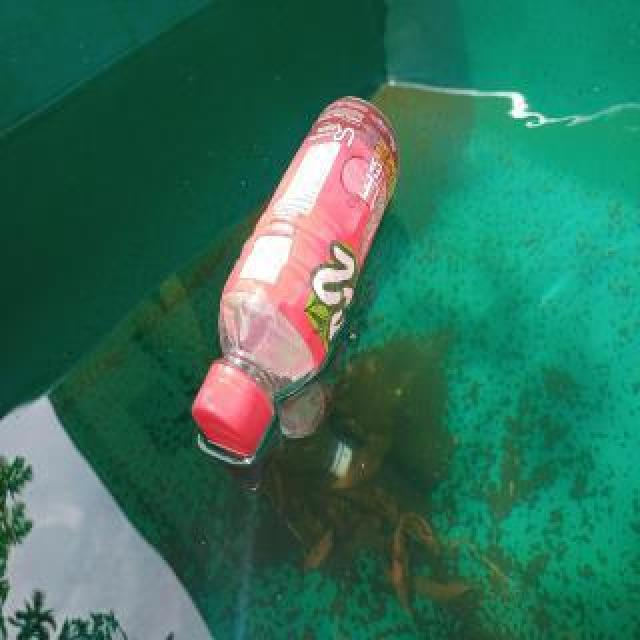bottle: (191, 93, 401, 461)
